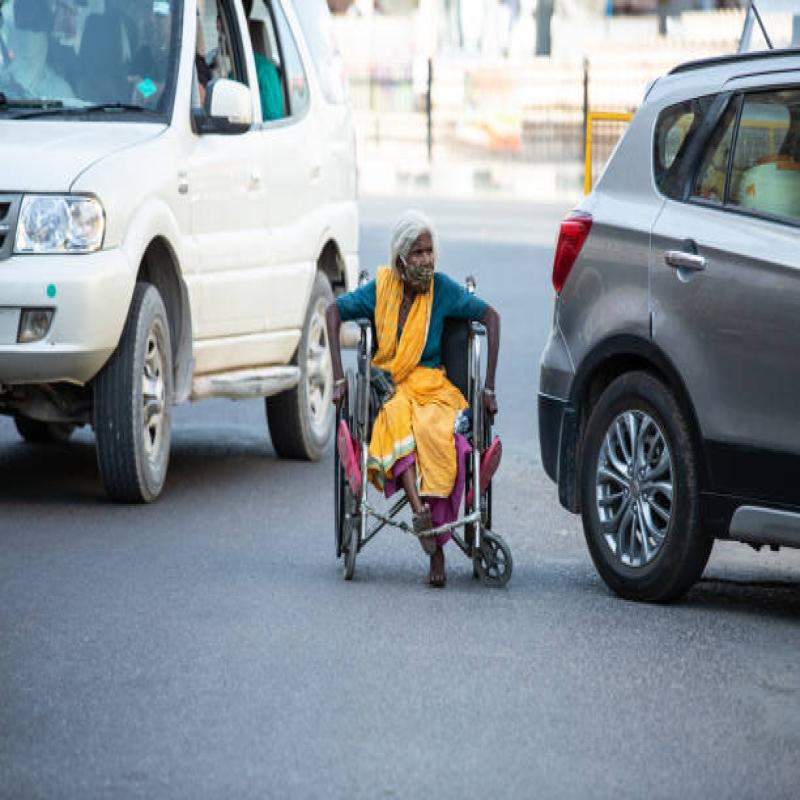auto: (0, 0, 356, 496), (533, 39, 800, 668)
